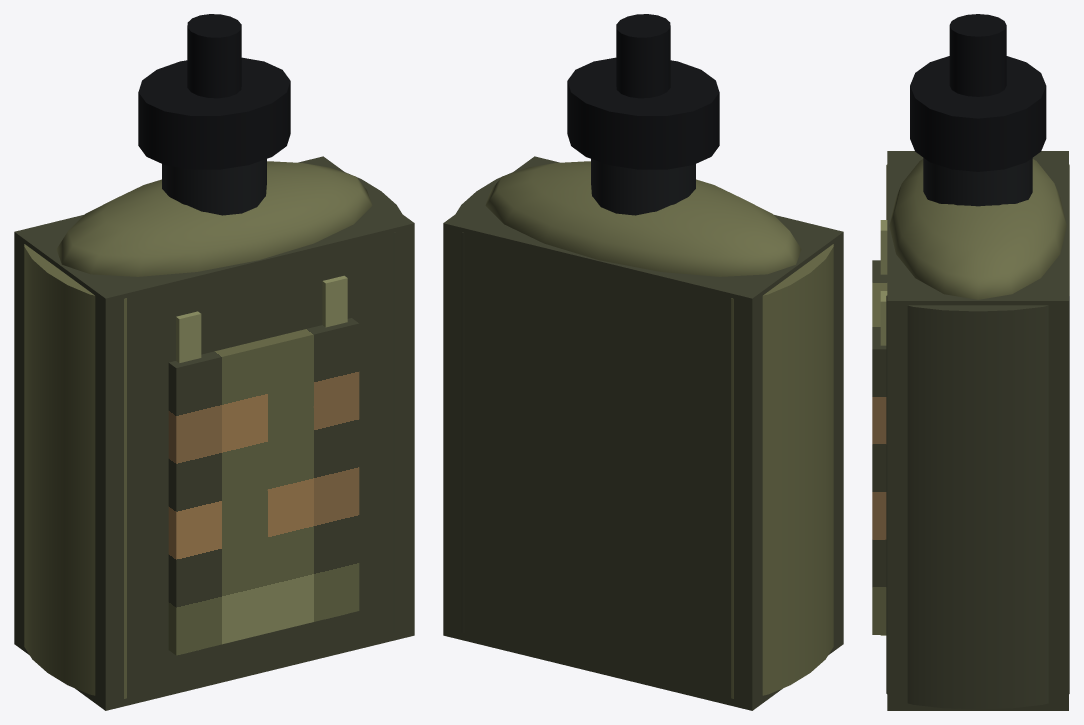
File: CMU3DRMCHelmetGarbGunOilDrinksExtraCloud.glb
The picture shows the model from 3 angles, left to right: view 1: azimuth 30°, elevation 25°; view 2: azimuth 150°, elevation 25°; view 3: azimuth 270°, elevation 25°; orthographic projection.
Visible parts, largest first — view 1: flattened oil flask body, original front instruction label, rounded left flask edge, flask rounded shoulder, ribbed nozzle cap, narrow applicator tip, oil nozzle neck, rounded right flask edge, flask embossed edge 0.05, flask embossed edge -0.05; view 2: flattened oil flask body, rounded left flask edge, flask rounded shoulder, ribbed nozzle cap, narrow applicator tip, oil nozzle neck, rounded right flask edge; view 3: rounded right flask edge, flattened oil flask body, flask rounded shoulder, ribbed nozzle cap, original front instruction label, narrow applicator tip, oil nozzle neck, flask embossed edge -0.05, flask embossed edge 0.05.
Boxes of the visible parts, x1,y1,x2,y2 form: flattened oil flask body: (14,156,414,710); original front instruction label: (168,318,359,655); rounded left flask edge: (24,244,126,698); flask rounded shoulder: (56,161,372,276); ribbed nozzle cap: (138,57,290,169); narrow applicator tip: (187,14,241,98); oil nozzle neck: (162,159,266,215); rounded right flask edge: (345,172,401,632); flask embossed edge 0.05: (322,275,347,327); flask embossed edge -0.05: (176,311,201,650); flattened oil flask body: (443,156,843,710); rounded left flask edge: (731,244,833,698); flask rounded shoulder: (485,161,801,276); ribbed nozzle cap: (567,57,719,169); narrow applicator tip: (616,14,670,98); oil nozzle neck: (591,159,695,215); rounded right flask edge: (456,172,512,632); rounded right flask edge: (886,295,1069,709); flattened oil flask body: (887,151,1068,710); flask rounded shoulder: (889,159,1066,299); ribbed nozzle cap: (910,56,1046,171); original front instruction label: (872,260,887,634); narrow applicator tip: (949,14,1006,96); oil nozzle neck: (923,158,1032,206); flask embossed edge -0.05: (880,220,887,274); flask embossed edge 0.05: (880,291,887,635).
Size of the model in its own units: 0.228 by 0.4005 by 0.1175.
6 materials, 1 textured.
